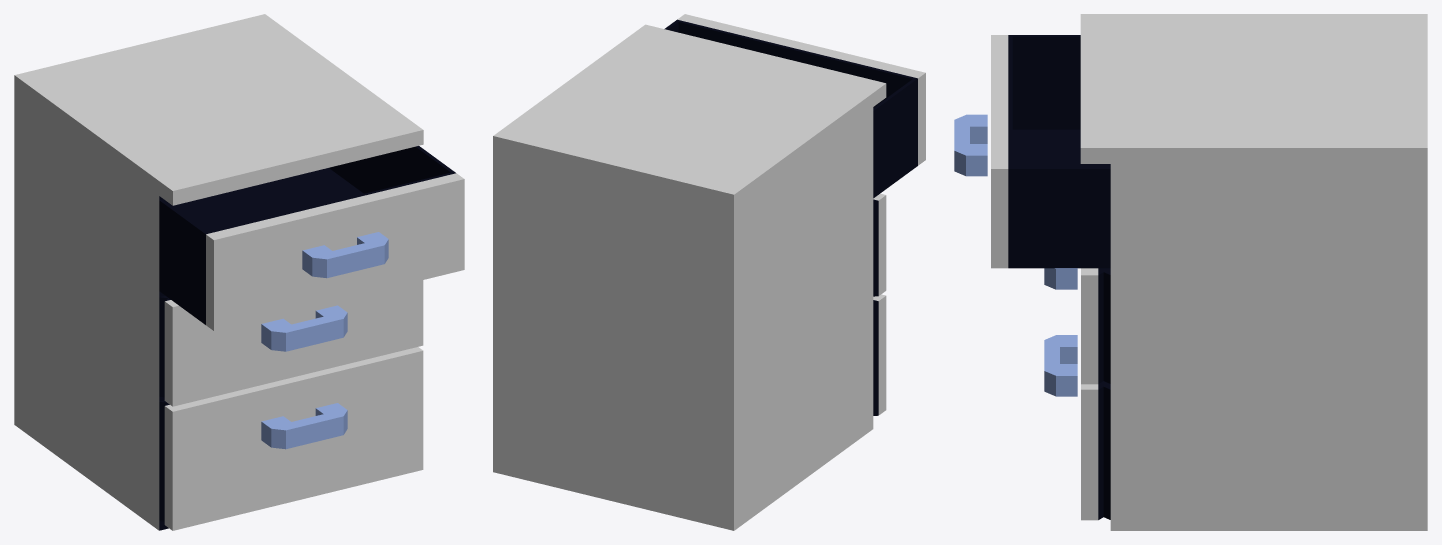
File: drawers3.FBX
The picture shows the model from 3 angles, left to right: view 1: azimuth 30°, elevation 25°; view 2: azimuth 150°, elevation 25°; view 3: azimuth 270°, elevation 25°; orthographic projection. The views are drawn at different scales.
Visible parts, largest first — view 1: cabinet2; view 2: cabinet2; view 3: cabinet2.
Boxes of the visible parts, x1,y1,x2,y2 form: cabinet2: (14, 14, 464, 530); cabinet2: (493, 14, 925, 530); cabinet2: (954, 14, 1427, 530).
Bounding box in the file's own units: 90 × 120 × 134.
